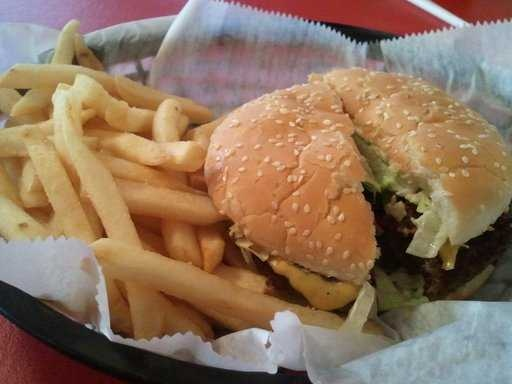hamburger: (202, 66, 512, 310)
